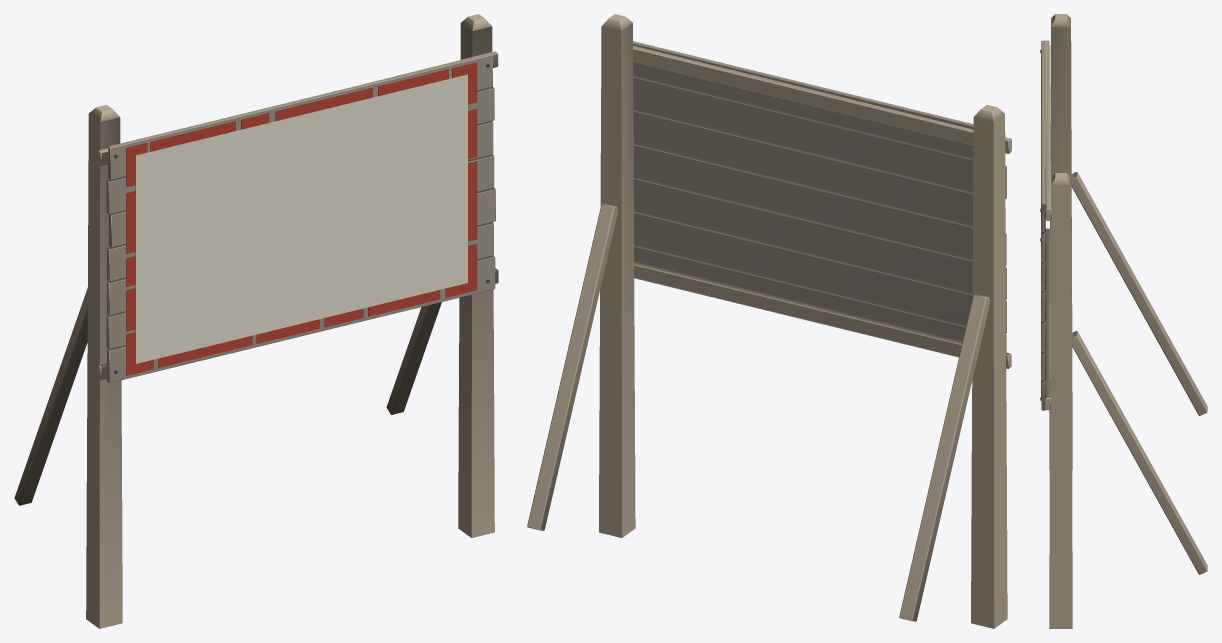
Rendered from warning_hoarding.glb.
3 renders of one model, left to right at view 1: azimuth 30°, elevation 25°; view 2: azimuth 150°, elevation 25°; view 3: azimuth 270°, elevation 25°, orthographic. The views are drawn at different scales.
Visible parts, largest first — view 1: static; view 2: static; view 3: static.
Part boxes in pixels (x1,y1,x2,y2): static: [14, 14, 498, 628]; static: [527, 14, 1011, 628]; static: [1040, 14, 1207, 628].
Bounding box in the file's own units: 2.4 × 2.95 × 0.9986.
